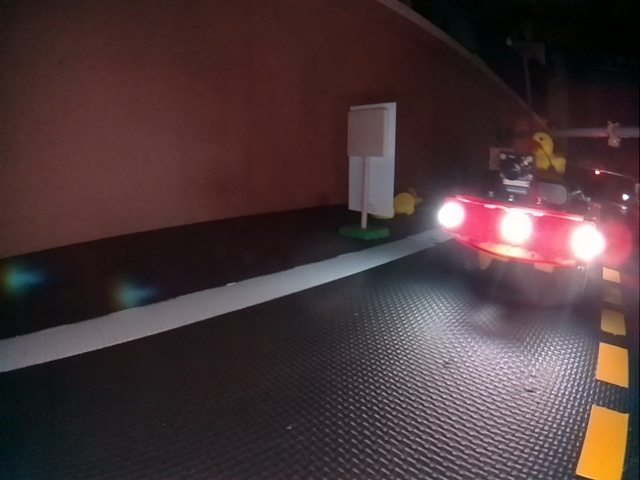Duckie: (529, 131, 567, 172), (396, 193, 414, 214), (408, 188, 423, 204)
Duckiebot: (441, 163, 602, 297)
Traffic light: (606, 121, 620, 147)
